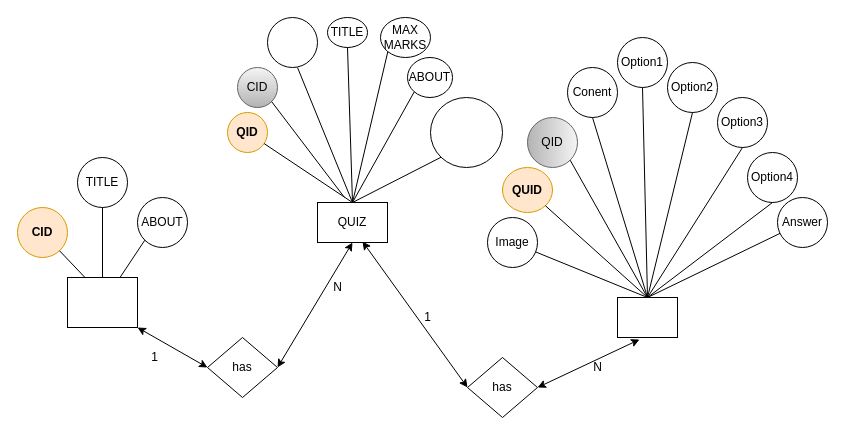
Image size: 845x435. Some labels were removed from this diagram. The shapes that lost their labels are listed below. From the top down, each one's centre as x and y in pixels, then its label:
At point 292,42: "ACTIVE".
At point 466,132: "NO of QUESTIONS".
At point 102,302: "Category".
At point 647,317: "Questions".
